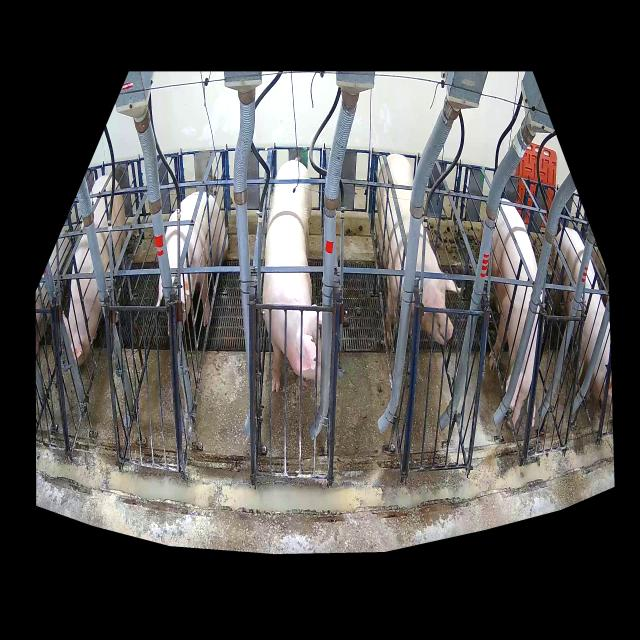pig: (376, 154, 457, 346), (263, 160, 322, 393), (62, 175, 128, 370), (489, 199, 543, 428), (551, 227, 612, 413), (156, 191, 228, 338)
